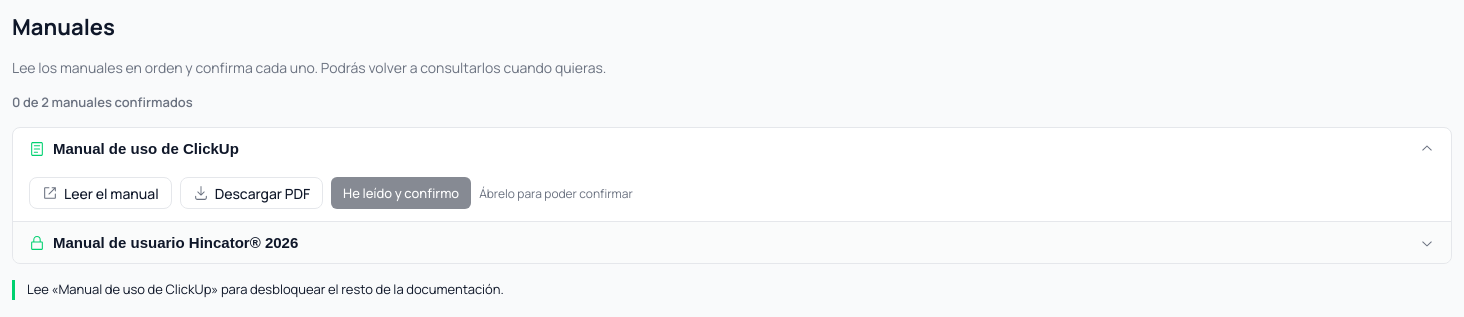
Test case: ManualStep — acordeón (un manual desplegado a la vez) › desplegar uno cierra el que estuviera abierto
The width and height of the screenshot is (1464, 317).
Click the button "Manual de usuario Hincator® 2026" at x=176, y=242, box [13,222,1451,263]
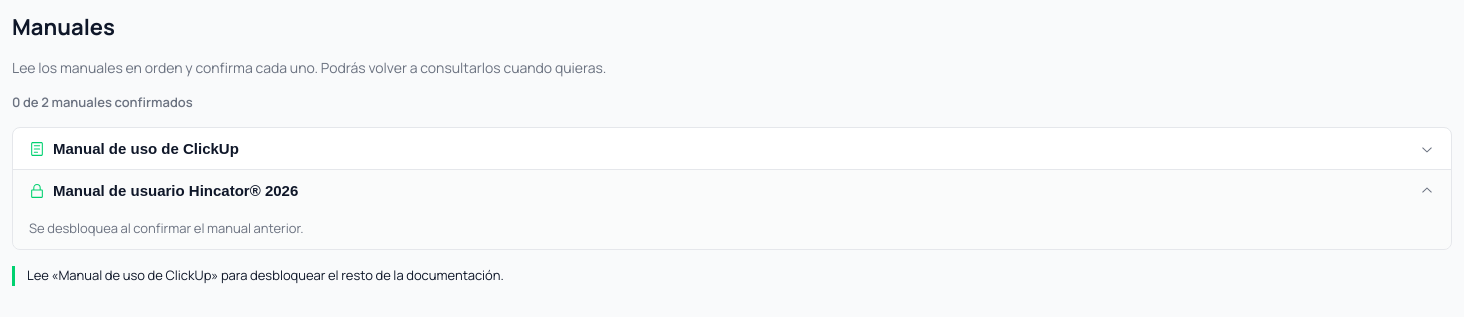
Result: the button "Manual de uso de ClickUp" is collapsed at [13,128,1451,169]
Result: no links "Leer el manual" are shown
Result: the text "Se desbloquea al confirmar el manual anterior." is shown at [29,219,303,237]
